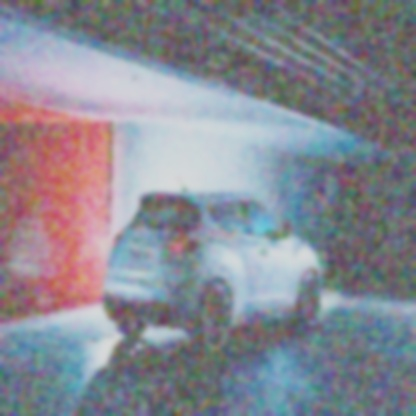Vehicle: (102, 175, 323, 357)
